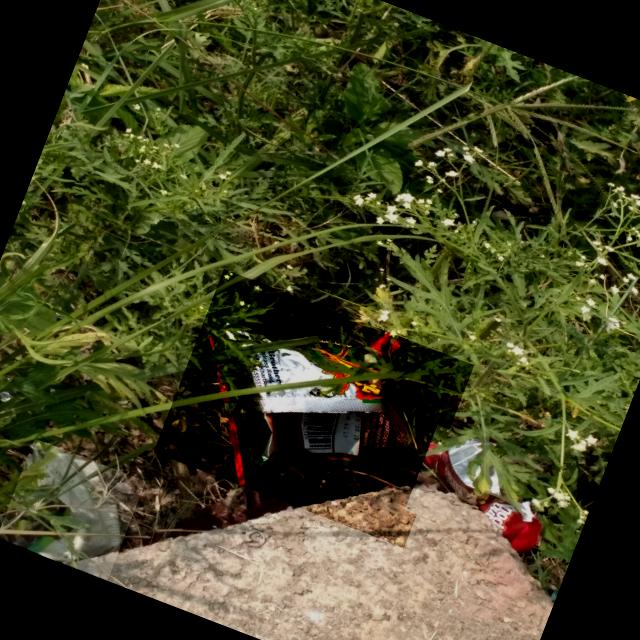Crisp packet: (207, 316, 442, 486)
Other plastic: (429, 439, 543, 554), (27, 450, 121, 564)
